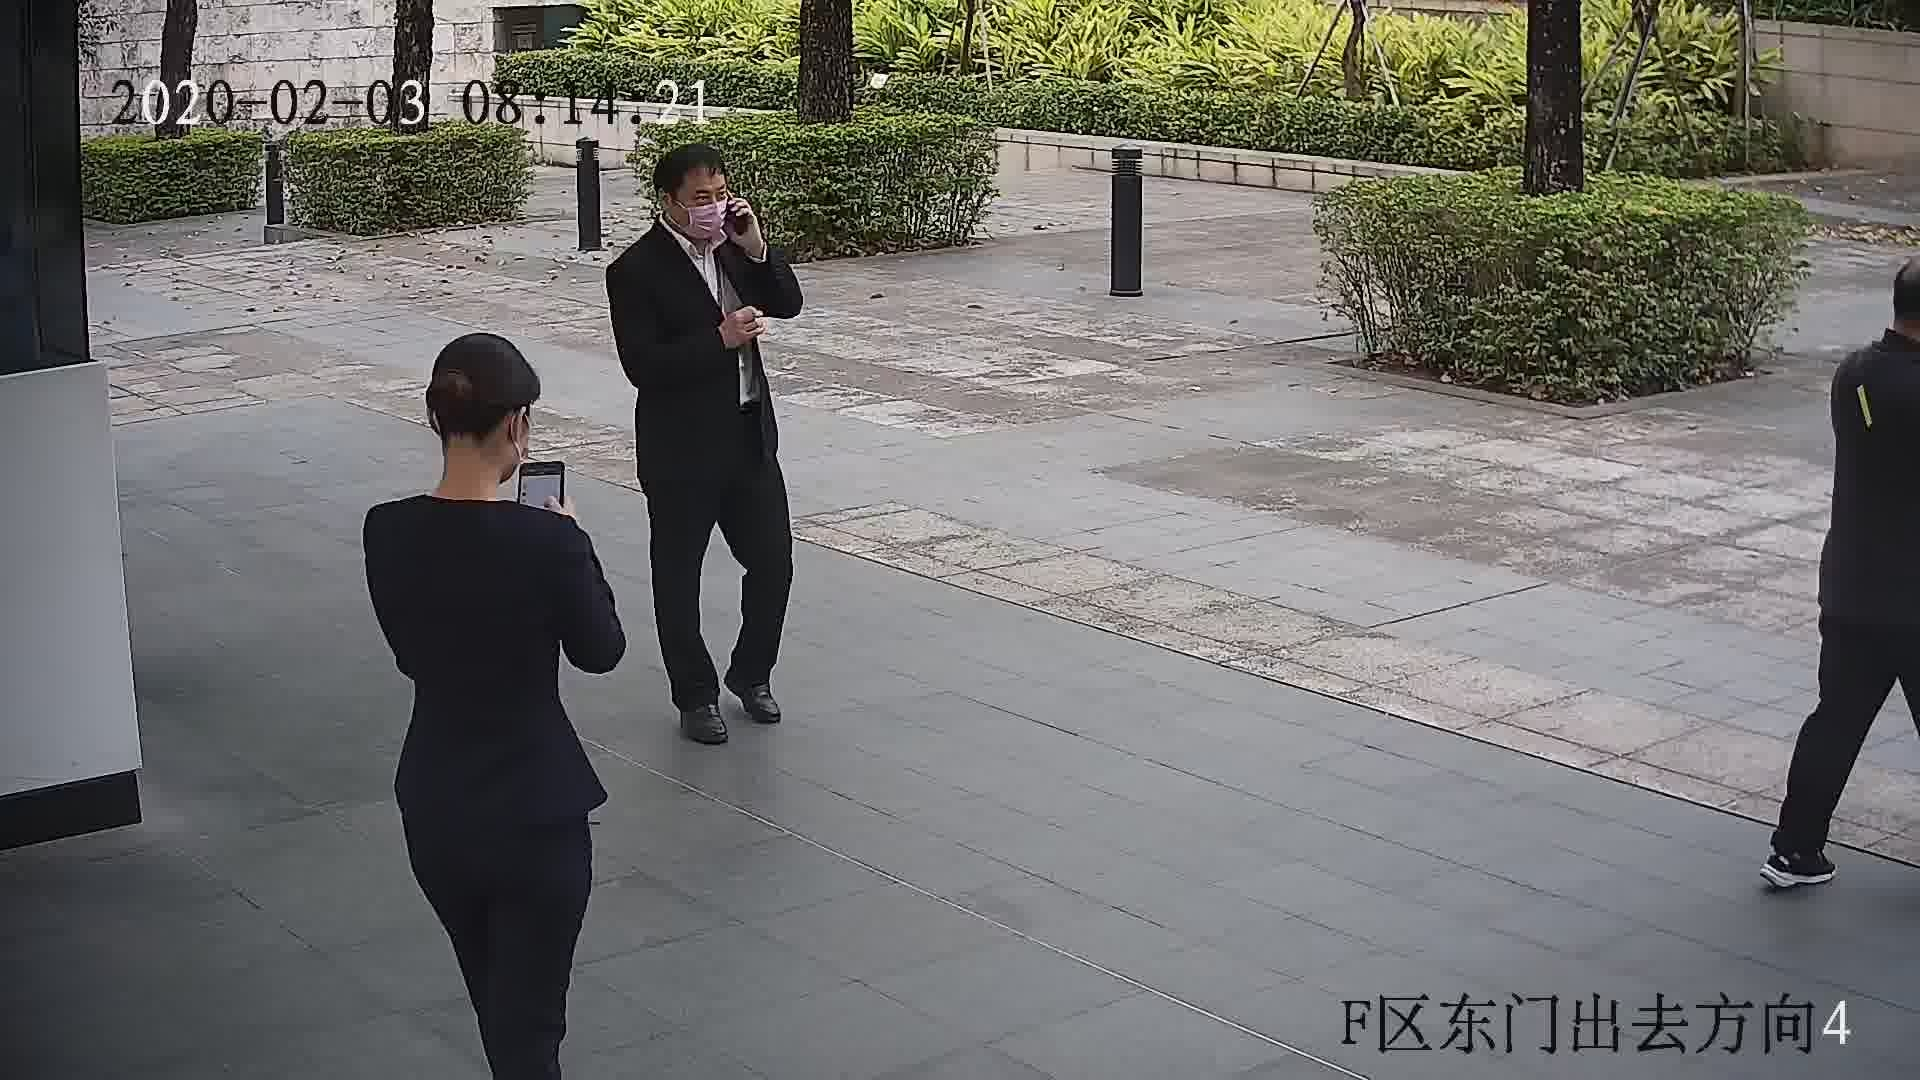face: (664, 164, 733, 234)
mask: (678, 197, 730, 235)
person: (367, 327, 585, 568), (607, 143, 759, 290), (1828, 250, 1920, 403)
